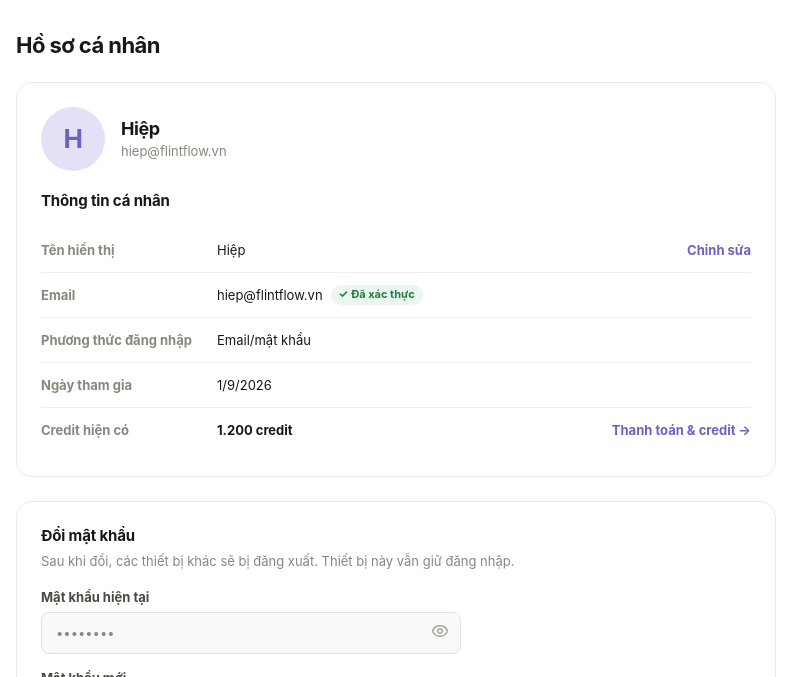
Test: ProfilePage › đổi mật khẩu thành công ⇒ báo thành công và xoá các ô
Check: the heading "Thông tin cá nhân" is shown, box [41,191,170,210]
Type "old-password-123" into the password field labelled "Mật khẩu hiện tại" at point(251, 633), box [41,612,461,654]
(page scrolled)
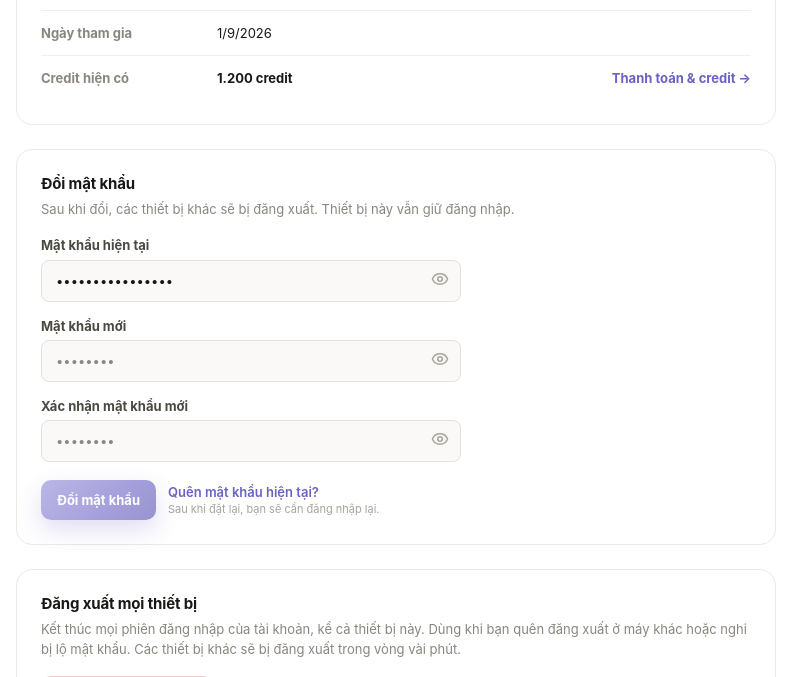
Type "new-password-456" into the password field labelled "Mật khẩu mới" at point(251, 361), box [41,340,461,382]
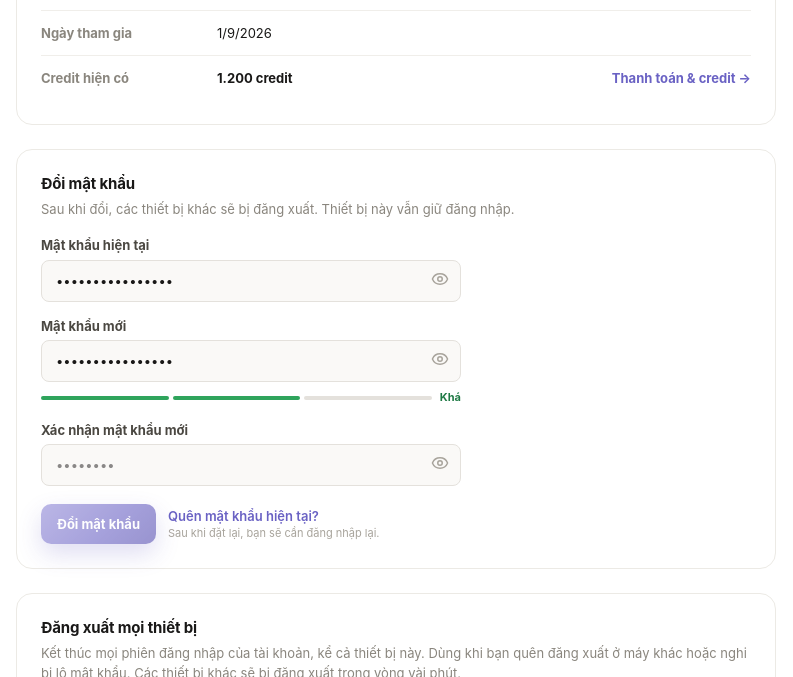
Type "new-password-456" into the password field labelled "Xác nhận mật khẩu mới" at point(251, 465), box [41,444,461,486]
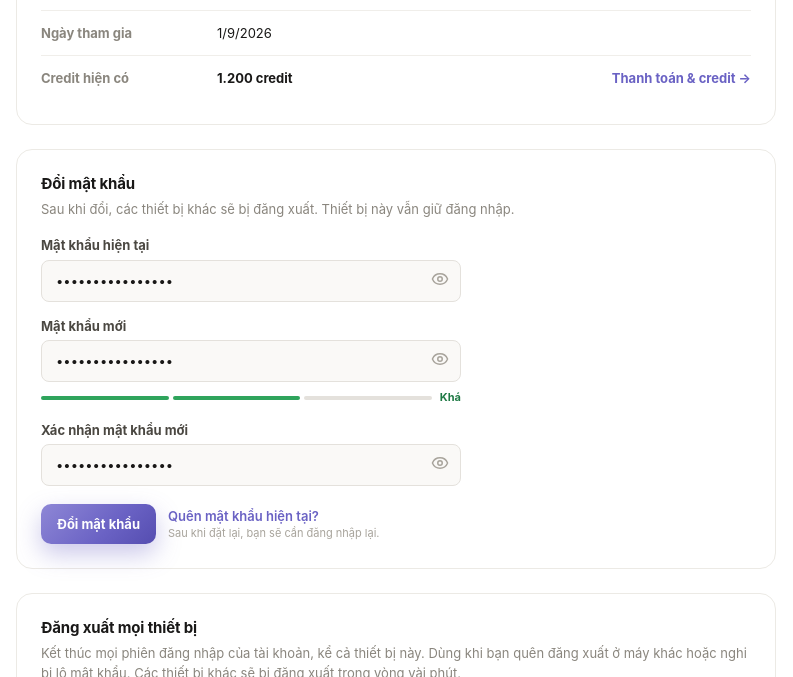
Click the button "Đổi mật khẩu" at point(98, 524), box [41,504,156,544]
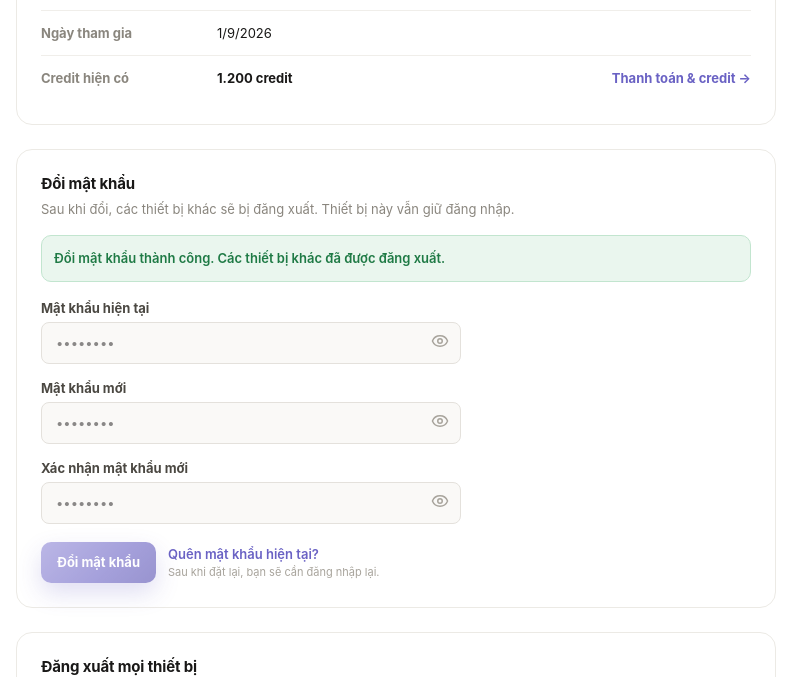
Check: the text "Đổi mật khẩu thành công" is shown, box [54,250,445,266]
Check: the password field labelled "Mật khẩu hiện tại" is empty, box [41,322,461,364]
